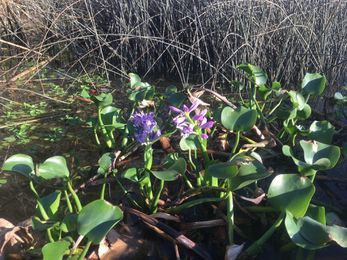water_hyacinth: (11, 64, 346, 259)
